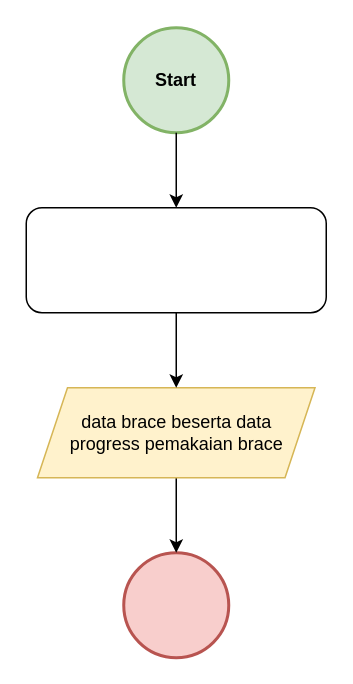
Some shapes in this 353 by 684 pixel diagram are drawn without their labels. The shapes that lost their labels are listed below. From the top down, each one's centre as x and y in pixels, then its label:
At pixel 175 259: "Client membuka tab brace".
At pixel 176 604: "End".
